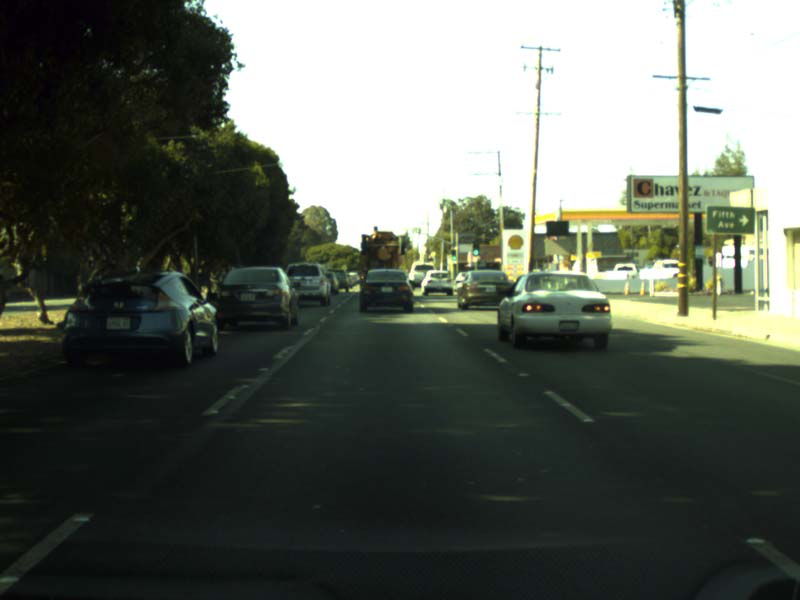Green: (472, 241, 479, 254), (450, 250, 455, 260)
